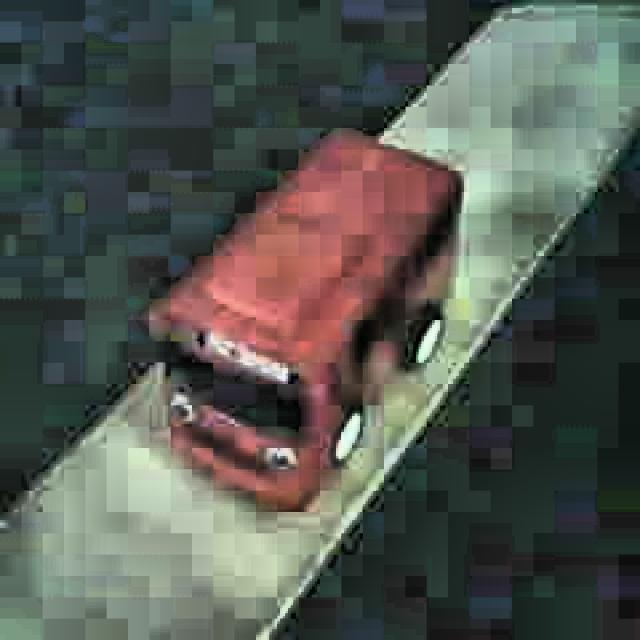bus: (147, 126, 465, 514)
